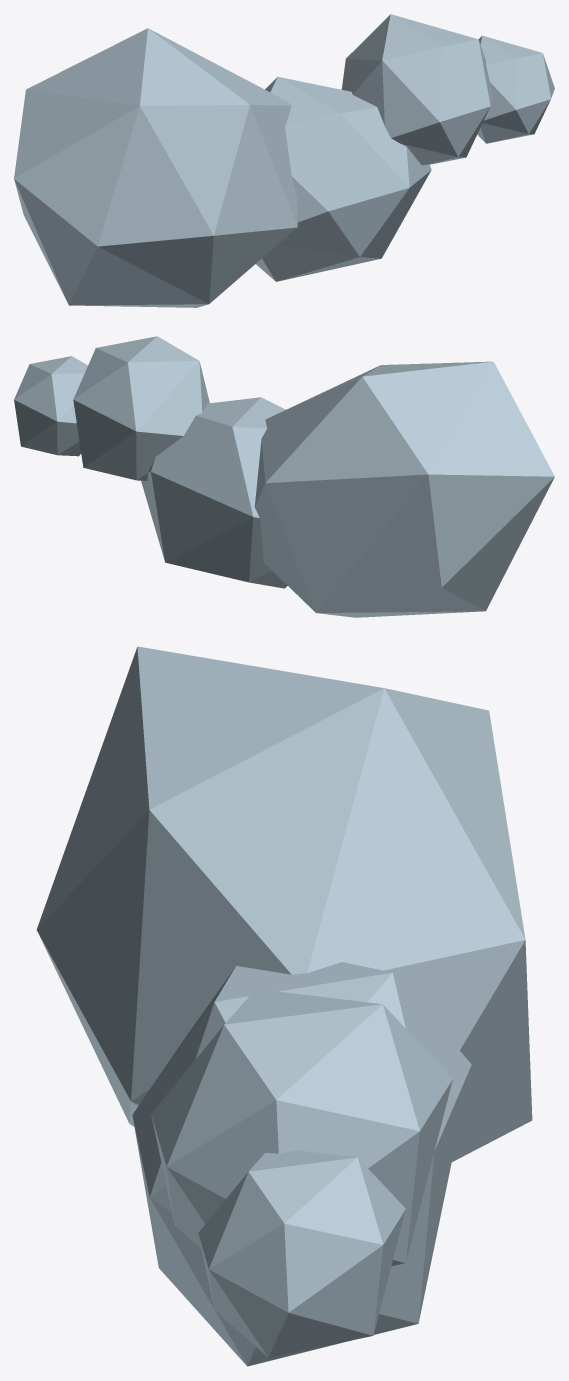
File: small_cloud_37.fbx
The picture shows the model from 3 angles, top to bottom: view 1: azimuth 30°, elevation 25°; view 2: azimuth 150°, elevation 25°; view 3: azimuth 270°, elevation 25°; orthographic projection. The views are drawn at different scales.
Visible parts, largest first — view 1: cloud_7; view 2: cloud_7; view 3: cloud_7.
Boxes of the visible parts, x1,y1,x2,y2 form: cloud_7: [14, 14, 554, 307]; cloud_7: [14, 336, 554, 617]; cloud_7: [36, 646, 532, 1366].
Size of the model in its own units: 338 by 160 by 136.
